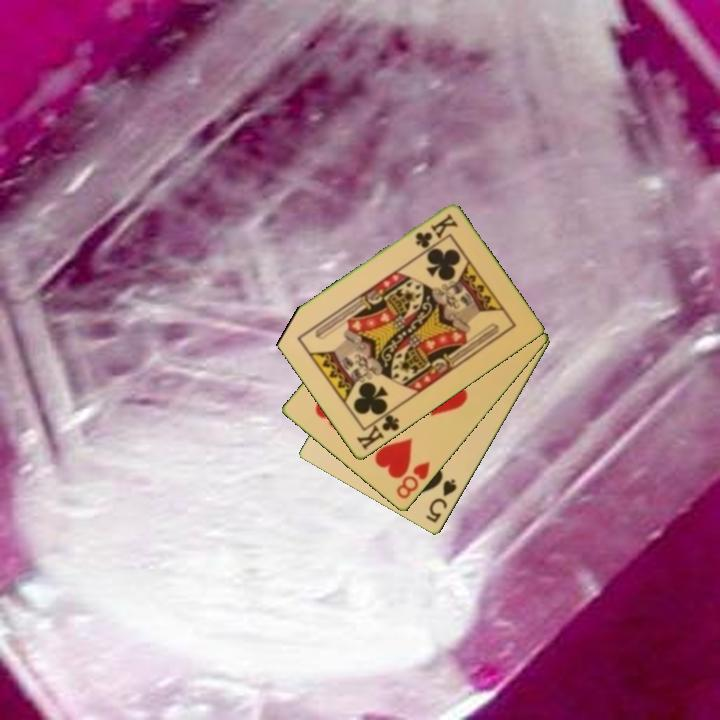5s: (422, 476, 460, 526)
8h: (393, 458, 433, 502)
Kc: (353, 406, 402, 453), (411, 210, 460, 251)
